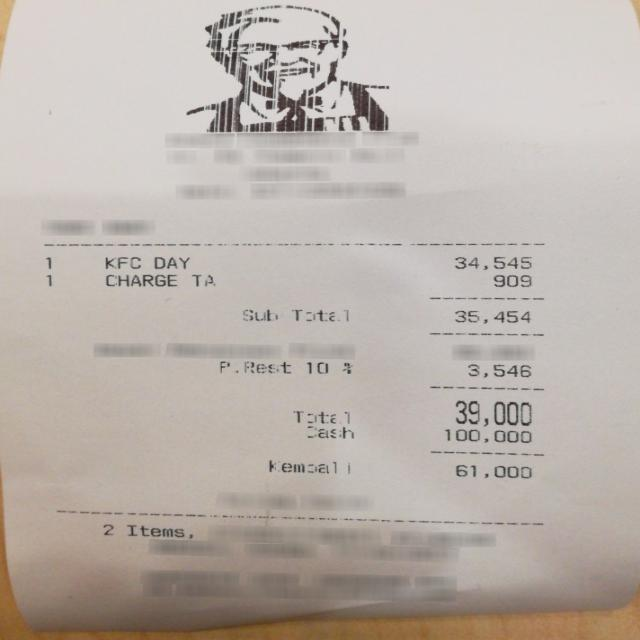text: (454, 400, 532, 426), (442, 427, 530, 442), (268, 459, 351, 473), (453, 255, 529, 269), (456, 464, 530, 478), (105, 274, 179, 287), (454, 310, 528, 322), (292, 409, 350, 424), (468, 363, 530, 377), (218, 360, 288, 372), (291, 309, 350, 323), (126, 524, 183, 537), (306, 425, 353, 438), (492, 273, 530, 286), (104, 256, 138, 268), (153, 256, 187, 268), (242, 308, 276, 320), (192, 274, 216, 286), (305, 361, 325, 373), (102, 523, 114, 536), (42, 256, 53, 270), (43, 273, 52, 288), (342, 361, 350, 373)
